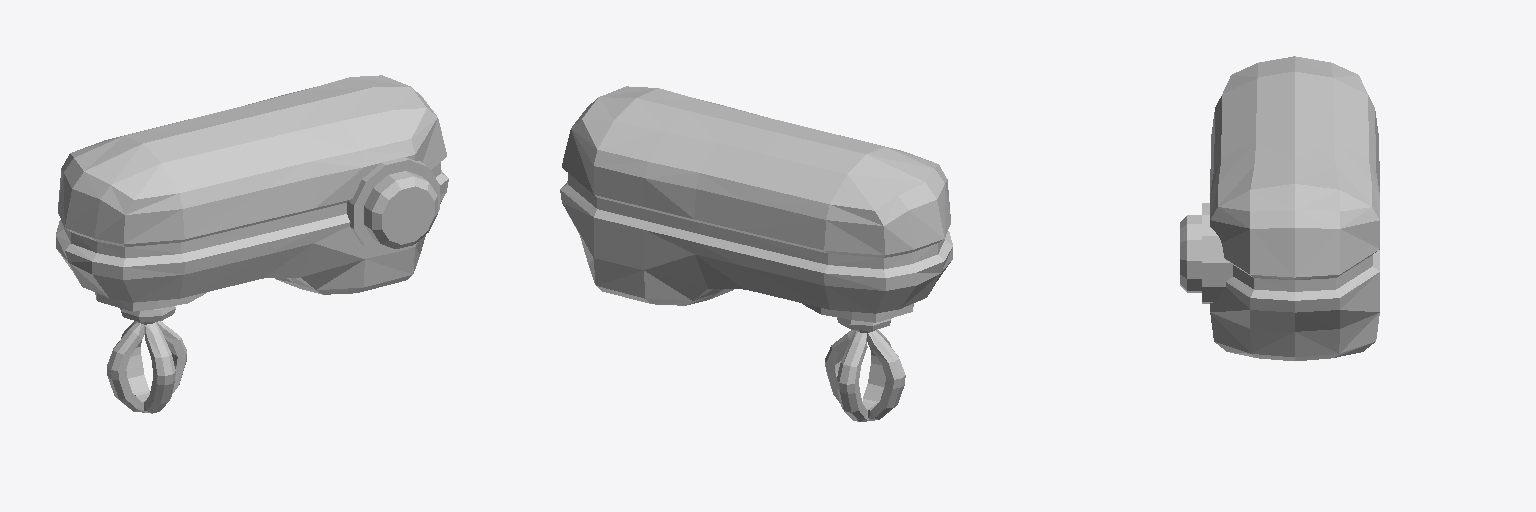
File: stand_mixer_arm.obj
3 views of the same model, side by side, from view 1: azimuth 30°, elevation 25°; view 2: azimuth 150°, elevation 25°; view 3: azimuth 270°, elevation 25° (orthographic).
Visible parts, largest first — view 1: stand_mixer_arm; view 2: stand_mixer_arm; view 3: stand_mixer_arm.
Part boxes in pixels (x1,y1,x2,y2): stand_mixer_arm: (56, 75, 448, 413); stand_mixer_arm: (560, 86, 952, 421); stand_mixer_arm: (1180, 56, 1379, 360).
Bounding box in the file's own units: 1.04 × 0.7149 × 0.4889.